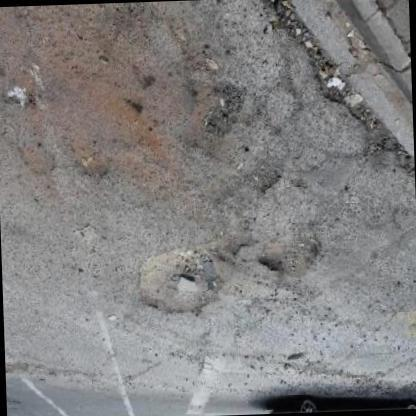pothole: (261, 0, 416, 178), (135, 247, 225, 319), (256, 230, 329, 280), (199, 80, 248, 143)
